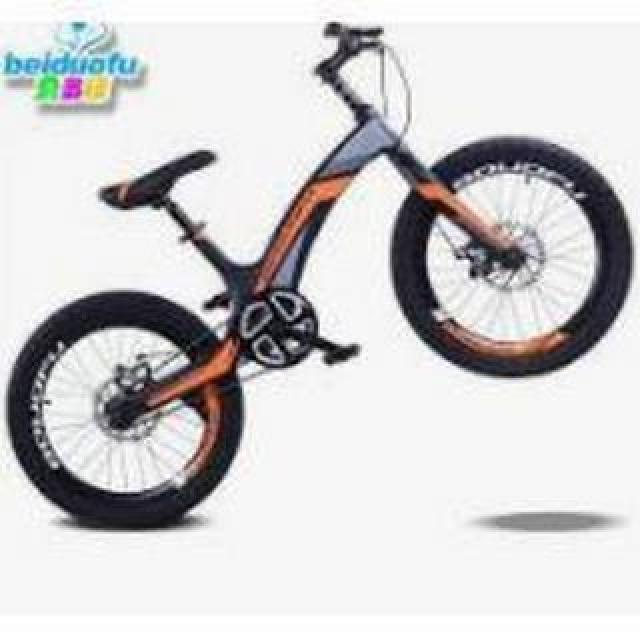Person: (0, 14, 636, 532)
